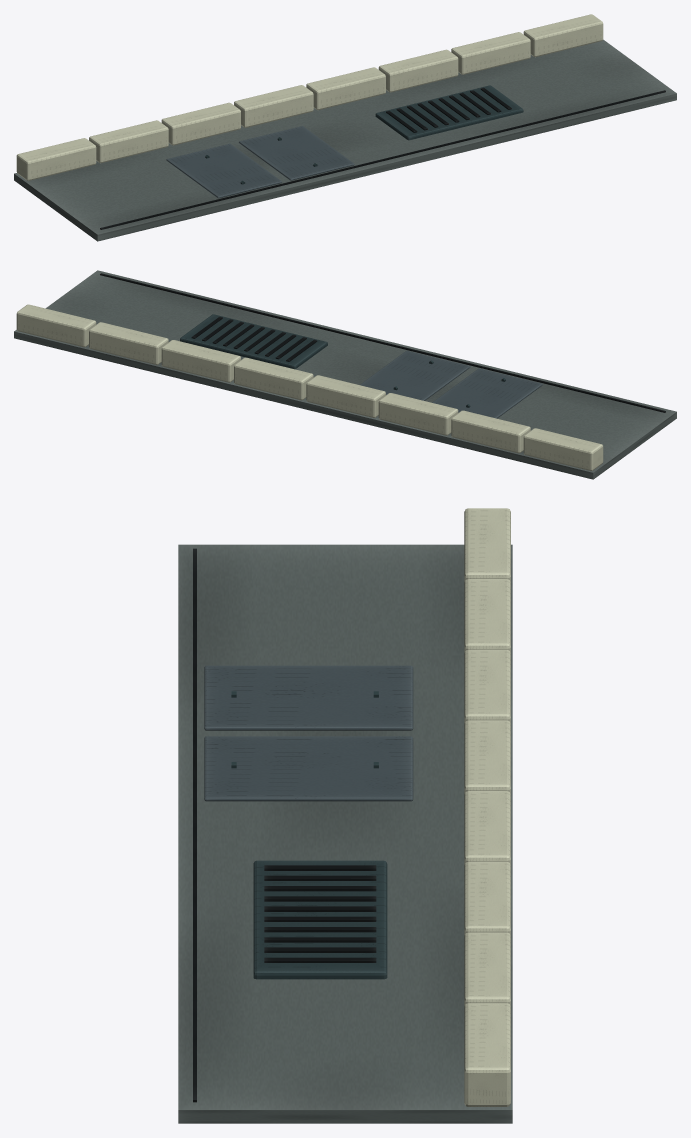
File: road_service_module.fbx
3 views of the same model, one above another, from view 1: azimuth 30°, elevation 25°; view 2: azimuth 150°, elevation 25°; view 3: azimuth 270°, elevation 25° (orthographic). The views are drawn at different scales.
Parts seen in each view (by area): view 1: road_service_module__slab, road_service_module__utility_paver, road_service_module__utility_paver.001, road_service_module__drain_frame, road_service_module__curb_block, road_service_module__curb_block.007, road_service_module__curb_block.005, road_service_module__curb_block.001, road_service_module__curb_block.002, road_service_module__curb_block.003, road_service_module__curb_block.006, road_service_module__curb_block.004 (+1 smaller); view 2: road_service_module__slab, road_service_module__drain_frame, road_service_module__utility_paver, road_service_module__utility_paver.001, road_service_module__curb_block, road_service_module__curb_block.002, road_service_module__curb_block.004, road_service_module__curb_block.007, road_service_module__curb_block.001, road_service_module__curb_block.003, road_service_module__curb_block.005, road_service_module__curb_block.006 (+1 smaller); view 3: road_service_module__slab, road_service_module__utility_paver, road_service_module__utility_paver.001, road_service_module__drain_frame, road_service_module__curb_block.007, road_service_module__curb_block.002, road_service_module__curb_block.005, road_service_module__curb_block.003, road_service_module__curb_block, road_service_module__curb_block.006, road_service_module__curb_block.001, road_service_module__curb_block.004 (+1 smaller).
Boxes of the visible parts, box(x1,y1,x2,y2) form: road_service_module__slab: box(14, 39, 676, 241); road_service_module__utility_paver: box(166, 143, 282, 198); road_service_module__utility_paver.001: box(239, 126, 354, 180); road_service_module__drain_frame: box(375, 85, 523, 140); road_service_module__curb_block: box(16, 138, 96, 180); road_service_module__curb_block.007: box(523, 14, 603, 57); road_service_module__curb_block.005: box(378, 49, 458, 92); road_service_module__curb_block.001: box(89, 120, 168, 163); road_service_module__curb_block.002: box(161, 102, 240, 145); road_service_module__curb_block.003: box(234, 85, 313, 127); road_service_module__curb_block.006: box(451, 32, 530, 74); road_service_module__curb_block.004: box(306, 67, 385, 110); road_service_module__slab: box(14, 270, 676, 479); road_service_module__drain_frame: box(180, 314, 327, 369); road_service_module__utility_paver: box(432, 368, 542, 418); road_service_module__utility_paver.001: box(360, 350, 470, 400); road_service_module__curb_block: box(523, 428, 603, 470); road_service_module__curb_block.002: box(378, 393, 458, 435); road_service_module__curb_block.004: box(234, 357, 313, 400); road_service_module__curb_block.007: box(16, 304, 96, 347); road_service_module__curb_block.001: box(451, 410, 530, 453); road_service_module__curb_block.003: box(306, 375, 385, 417); road_service_module__curb_block.005: box(161, 340, 240, 382); road_service_module__curb_block.006: box(89, 322, 168, 364); road_service_module__slab: box(178, 544, 512, 1123); road_service_module__utility_paver: box(204, 665, 413, 730); road_service_module__utility_paver.001: box(204, 736, 413, 801); road_service_module__drain_frame: box(253, 860, 387, 979); road_service_module__curb_block.007: box(464, 1003, 510, 1106); road_service_module__curb_block.002: box(464, 649, 510, 723); road_service_module__curb_block.005: box(464, 861, 510, 935); road_service_module__curb_block.003: box(464, 720, 510, 793); road_service_module__curb_block: box(464, 508, 510, 581); road_service_module__curb_block.006: box(464, 932, 510, 1005); road_service_module__curb_block.001: box(464, 579, 510, 652); road_service_module__curb_block.004: box(464, 791, 510, 864).
Bounding box in the file's own units: 800 × 35 × 200.
5 materials, 5 textured.
